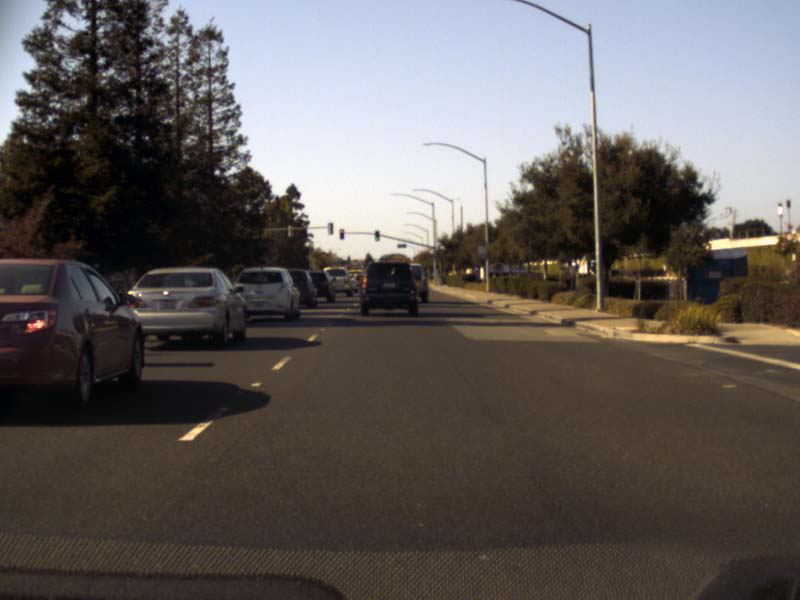Green: (374, 230, 379, 241)
Red: (340, 229, 343, 239)
